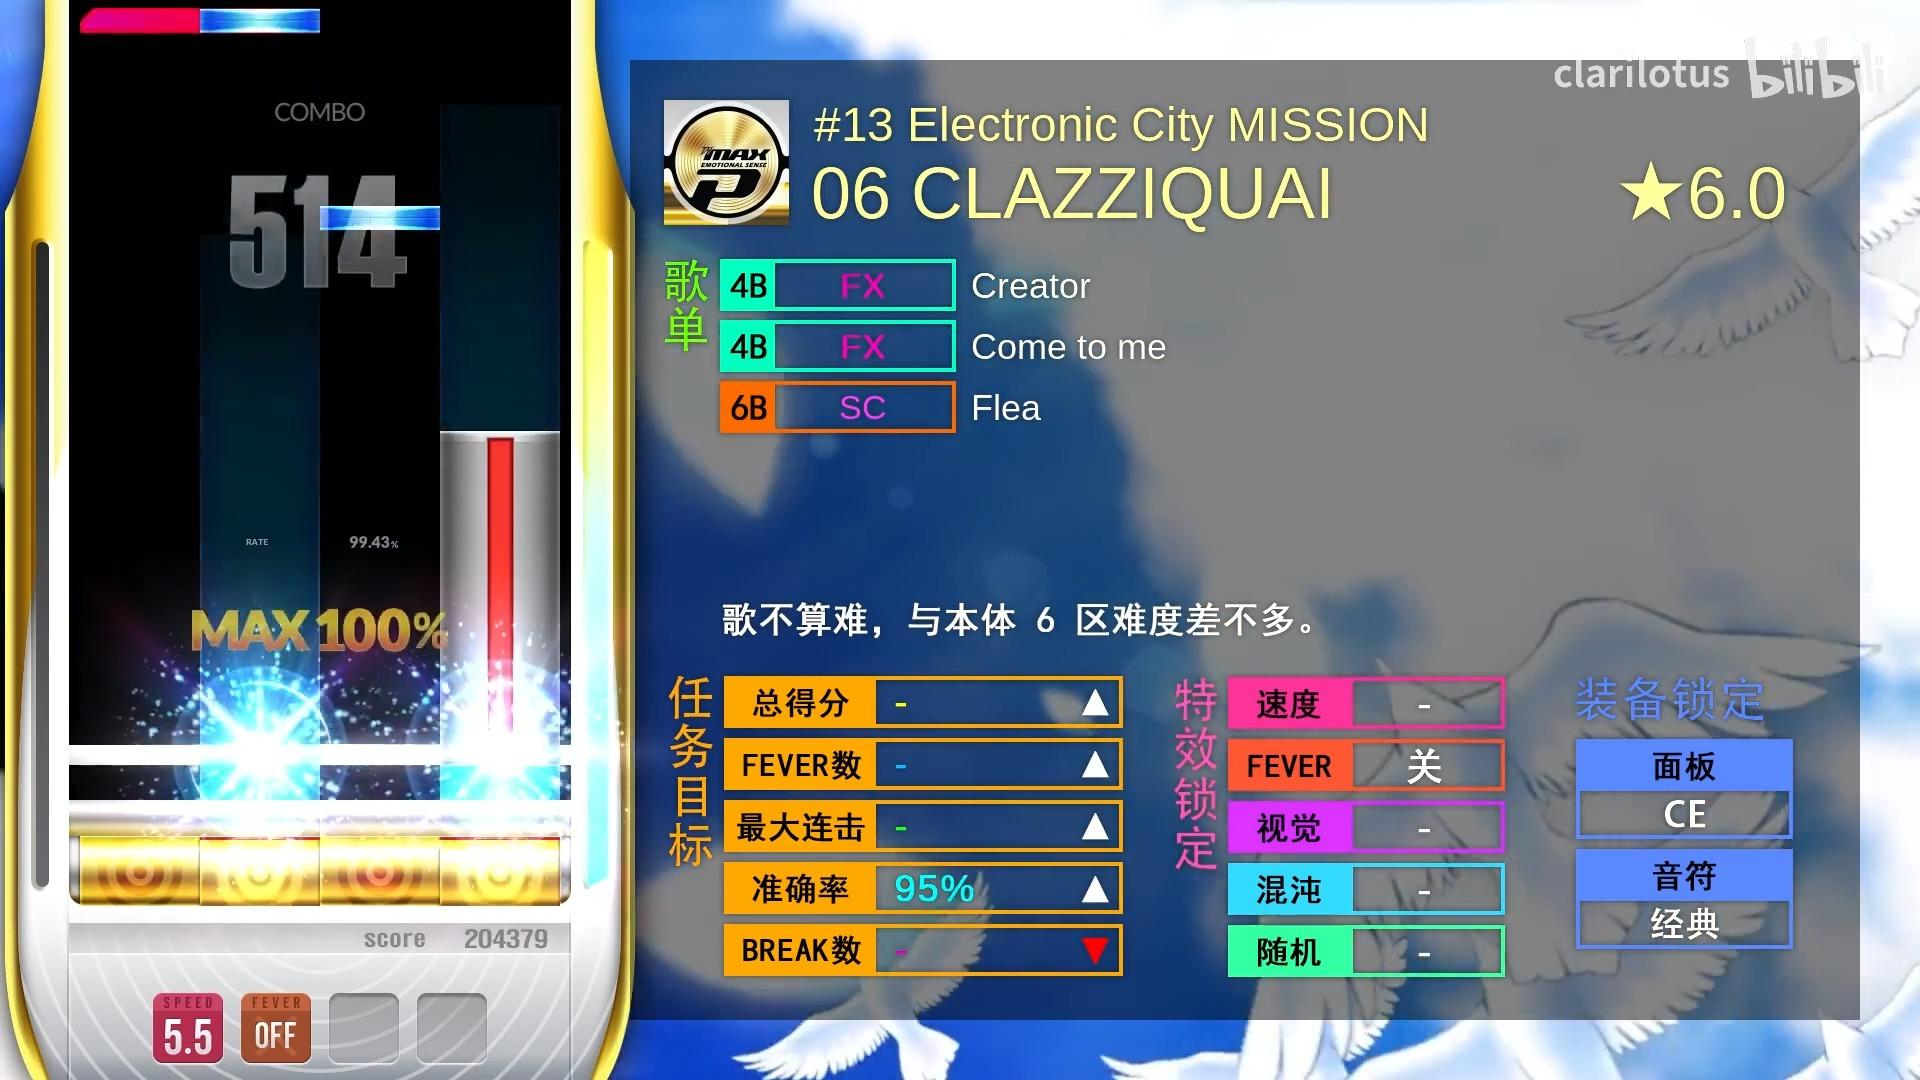hold-end: (440, 430, 560, 460)
note: (200, 8, 320, 34), (319, 206, 442, 231)
xnote: (80, 7, 320, 33)
